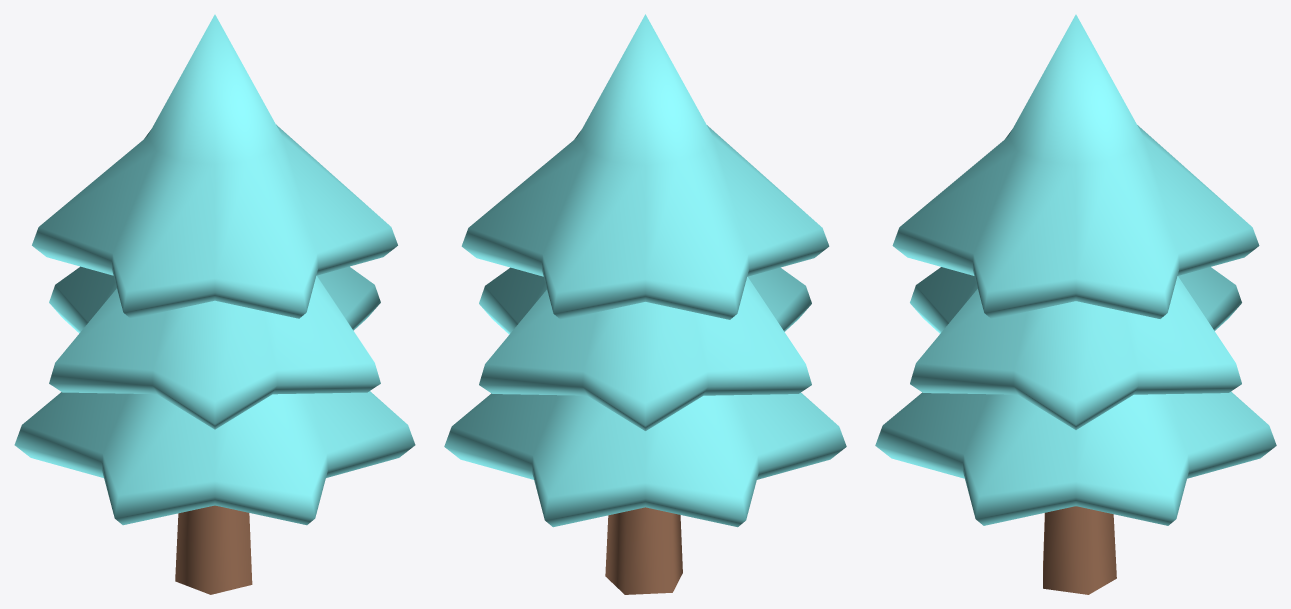
Rendered from Tree_7.fbx.
The picture shows the model from 3 angles, left to right: view 1: azimuth 30°, elevation 25°; view 2: azimuth 150°, elevation 25°; view 3: azimuth 270°, elevation 25°; orthographic projection.
Visible parts, largest first — view 1: pCone24, pCone26, pCone25, polySurface166; view 2: pCone24, pCone26, pCone25, polySurface166; view 3: pCone24, pCone26, pCone25, polySurface166.
Boxes of the visible parts, x1=… form: pCone24: x1=32, y1=14, x2=397, y2=318; pCone26: x1=14, y1=391, x2=415, y2=525; pCone25: x1=49, y1=266, x2=380, y2=429; polySurface166: x1=175, y1=505, x2=252, y2=594; pCone24: x1=461, y1=14, x2=829, y2=319; pCone26: x1=444, y1=392, x2=846, y2=527; pCone25: x1=479, y1=267, x2=811, y2=430; polySurface166: x1=605, y1=507, x2=682, y2=594; pCone24: x1=892, y1=14, x2=1259, y2=318; pCone26: x1=875, y1=391, x2=1276, y2=525; pCone25: x1=910, y1=267, x2=1241, y2=429; polySurface166: x1=1043, y1=506, x2=1116, y2=594.
Bounding box in the file's own units: 19.11 × 31.01 × 19.99.
